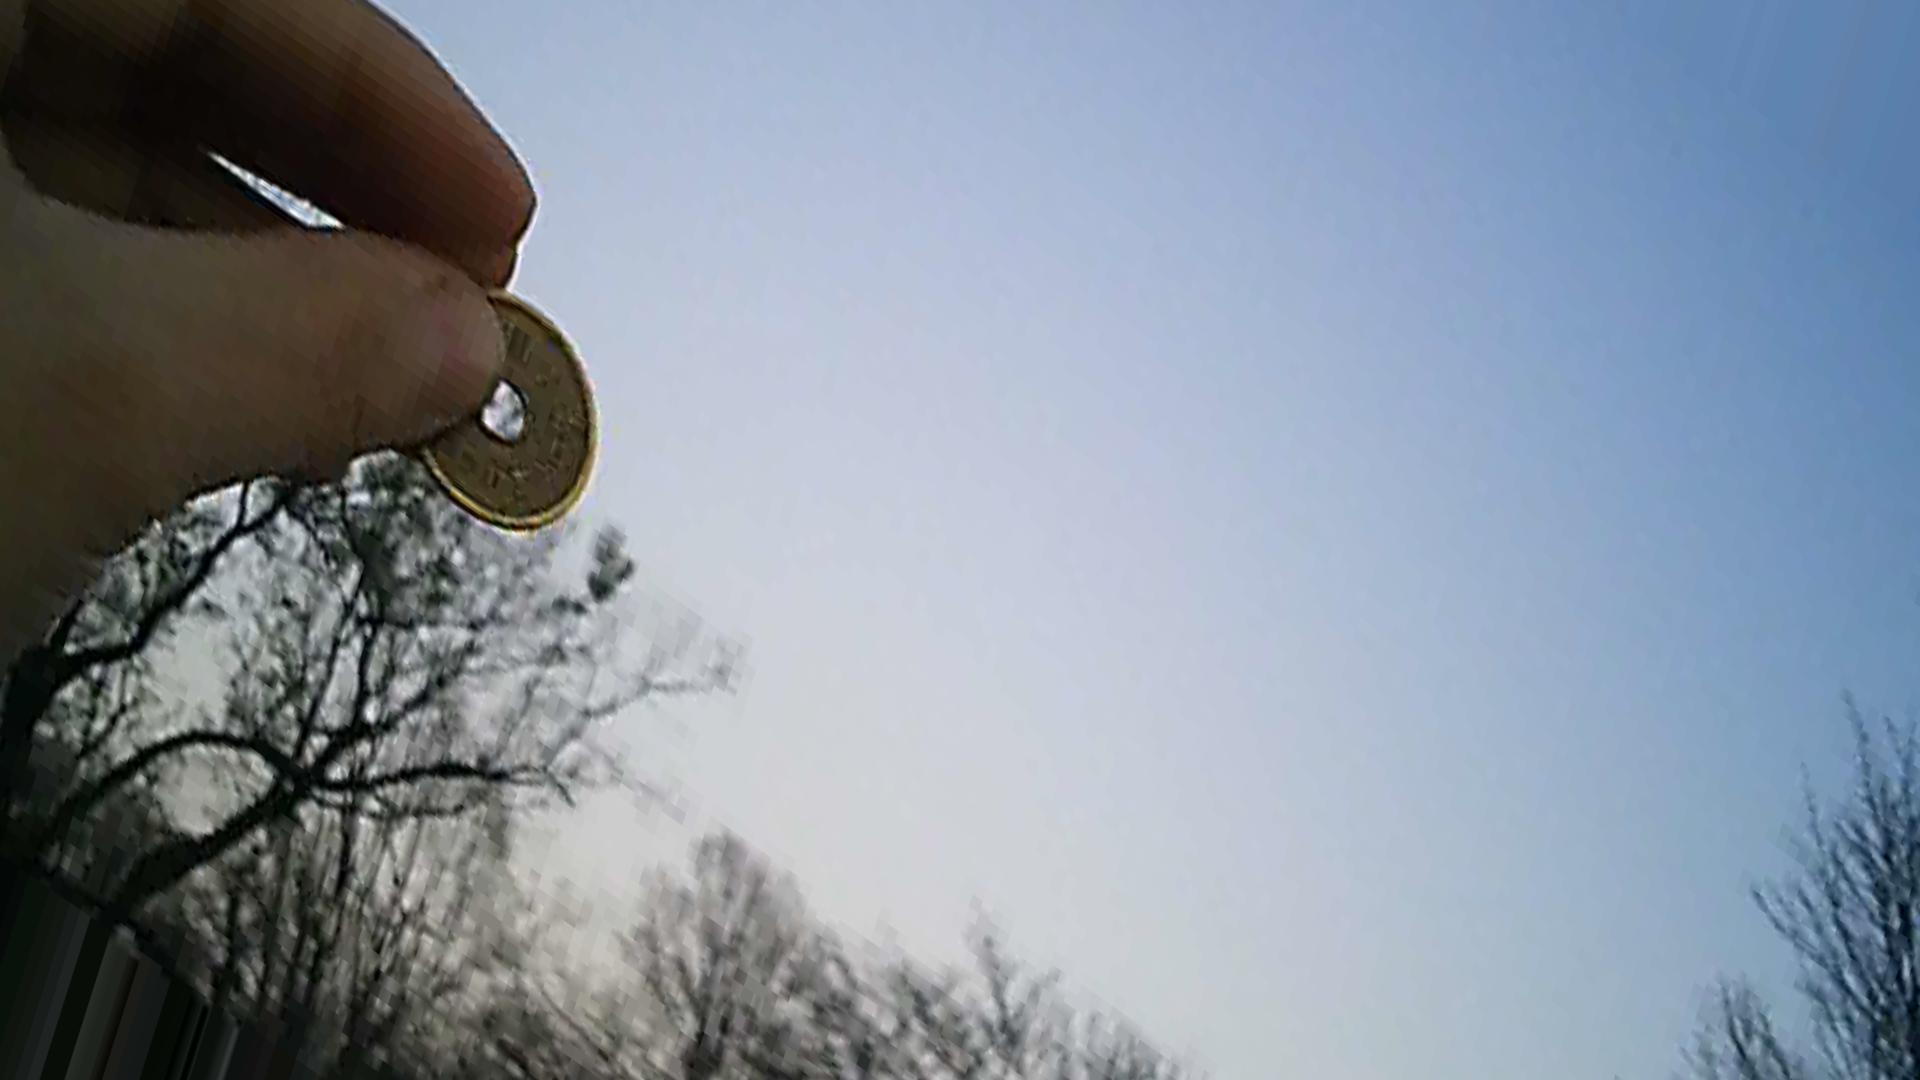5 Yen: (378, 272, 618, 549)
